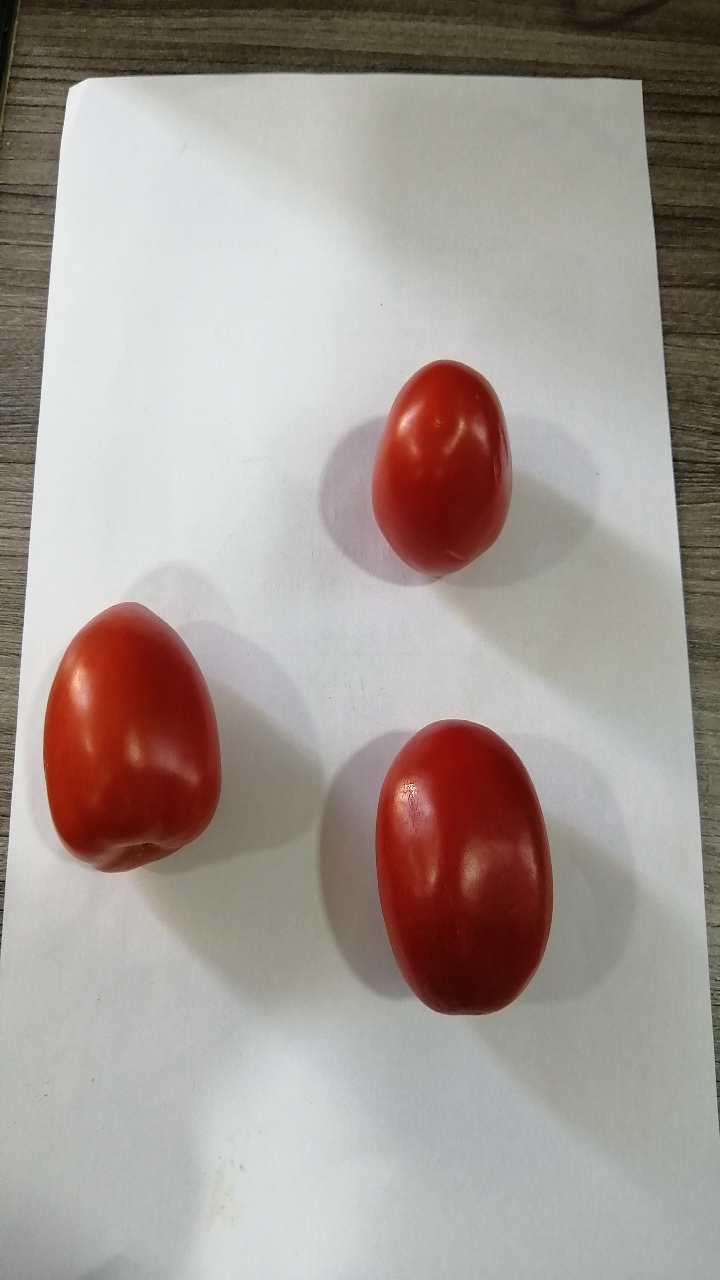tomateRojo: (343, 692, 574, 1040), (17, 591, 240, 889), (343, 345, 532, 588)
